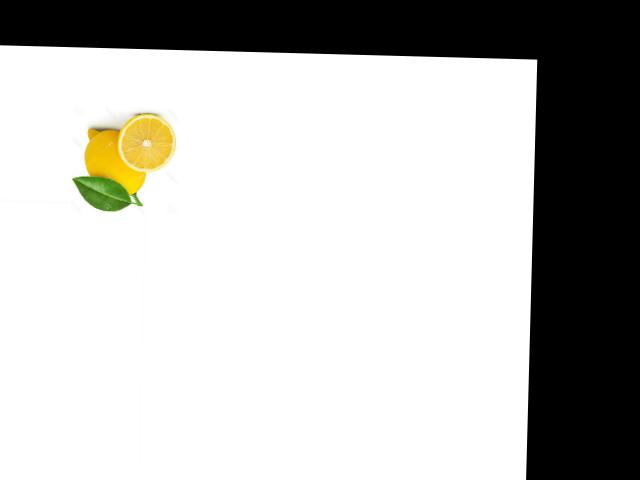lemon: (80, 124, 151, 206)
